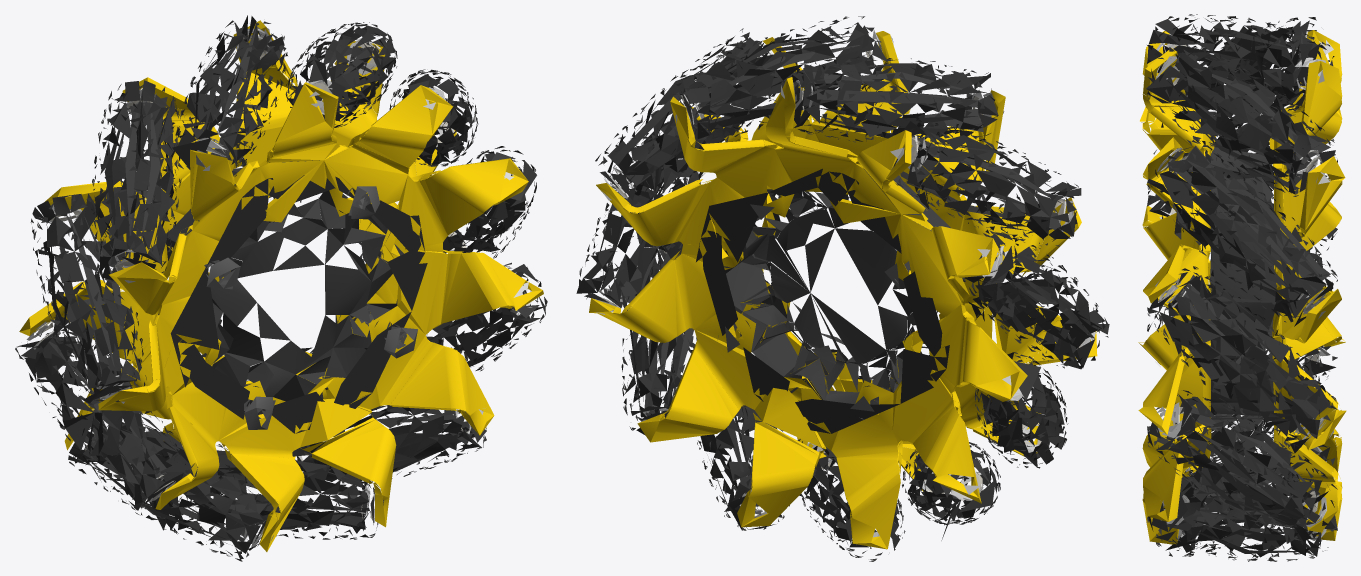
3 views of the same model, side by side, from view 1: azimuth 30°, elevation 25°; view 2: azimuth 150°, elevation 25°; view 3: azimuth 270°, elevation 25° (orthographic).
Visible parts, largest first — view 1: fl; view 2: fl; view 3: fl.
Part boxes in pixels (box(x1,y1,x2,y2)): fl: box(15, 15, 547, 561); fl: box(576, 16, 1109, 561); fl: box(1138, 14, 1346, 561).
Bounding box in the file's own units: 0.1039 × 0.104 × 0.0395.
